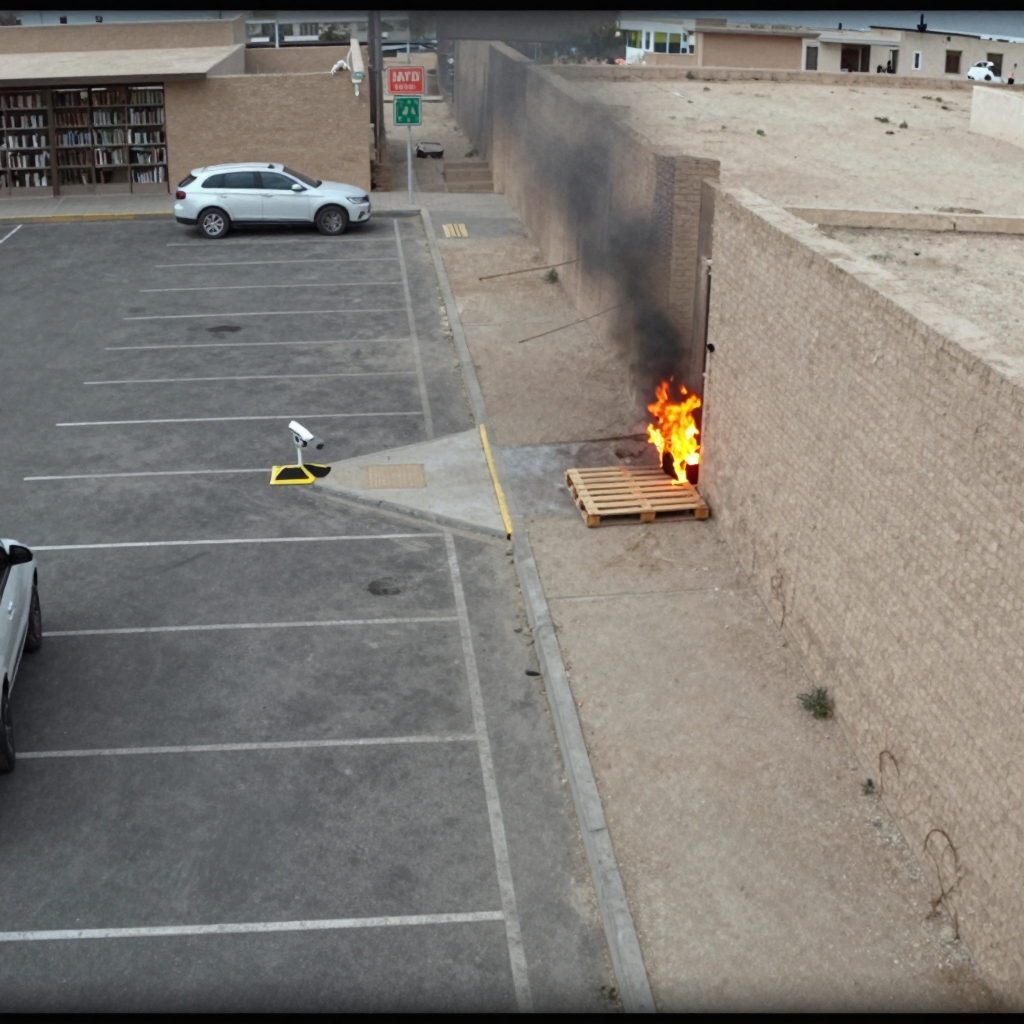Arson: (645, 384, 698, 489)
Explosion: (456, 18, 703, 379)
